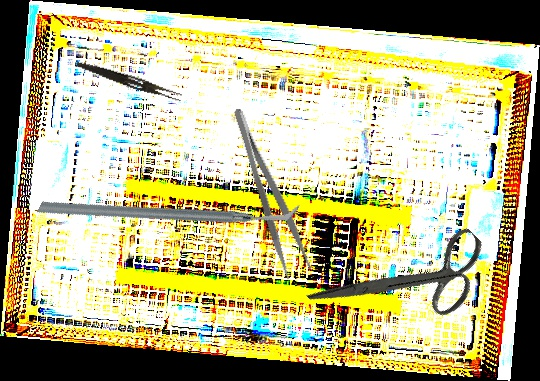Chopper: (36, 101, 301, 316)
Dressing Forceps: (229, 102, 314, 280), (74, 60, 184, 102)
Iris Scissors: (304, 180, 505, 380)
